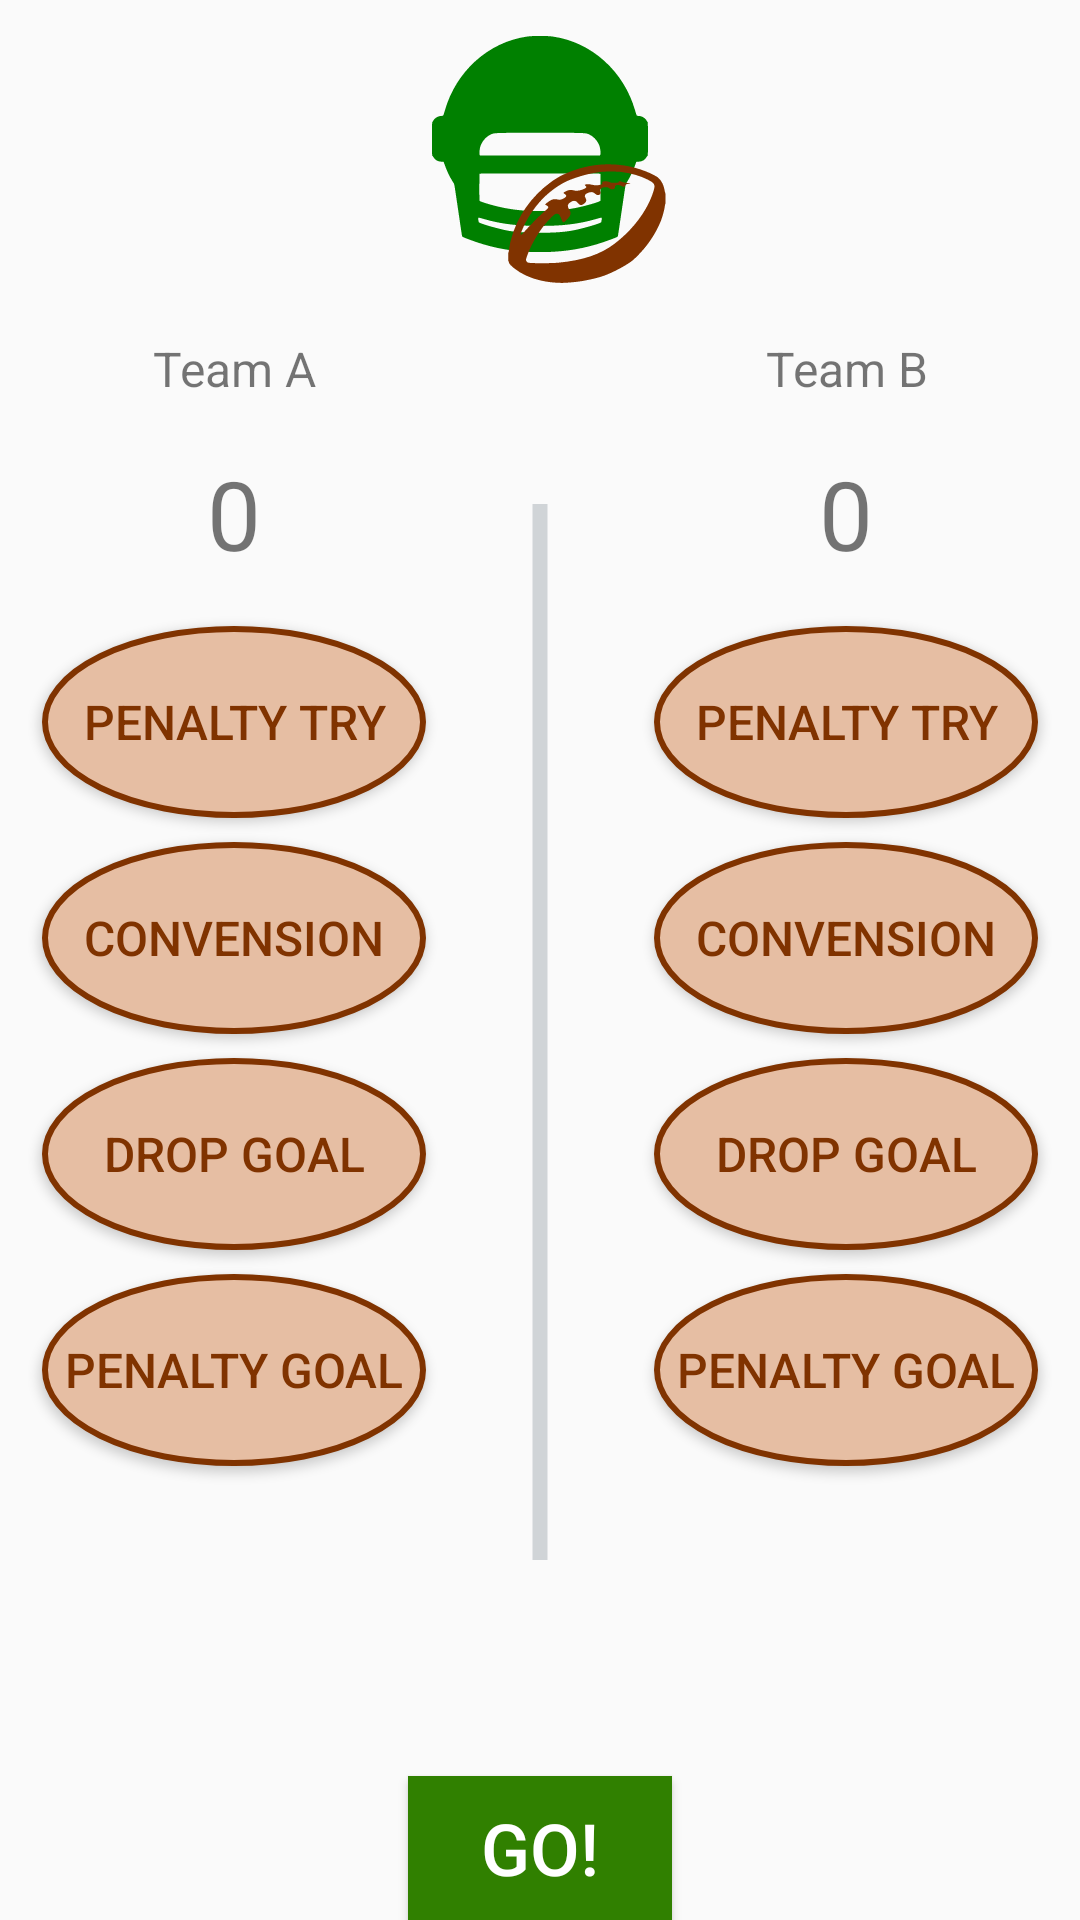

Icons on this 1080px x 1920px Android screen, each with the point to tap as [x,y]:
casca: [549,159]
